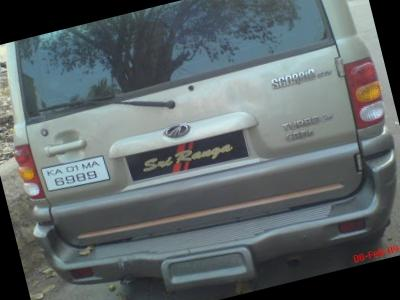plate: (34, 145, 116, 203)
